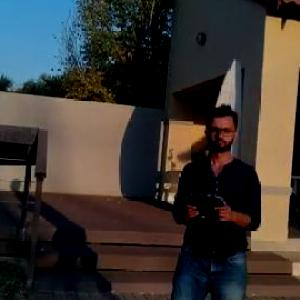follow: (161, 98, 266, 299)
